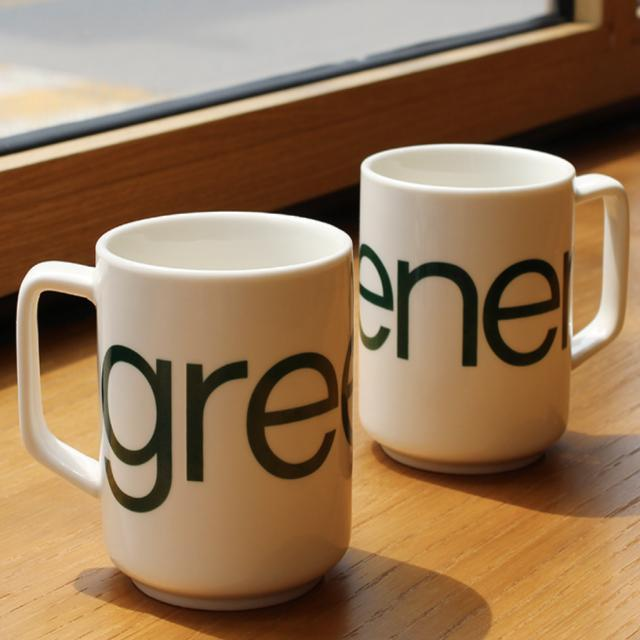recyclable: (12, 194, 366, 622), (346, 113, 635, 490)
